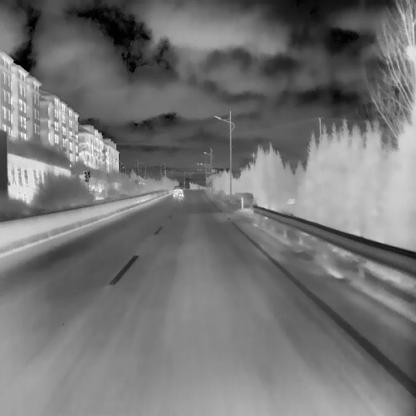car: (171, 185, 183, 197)
